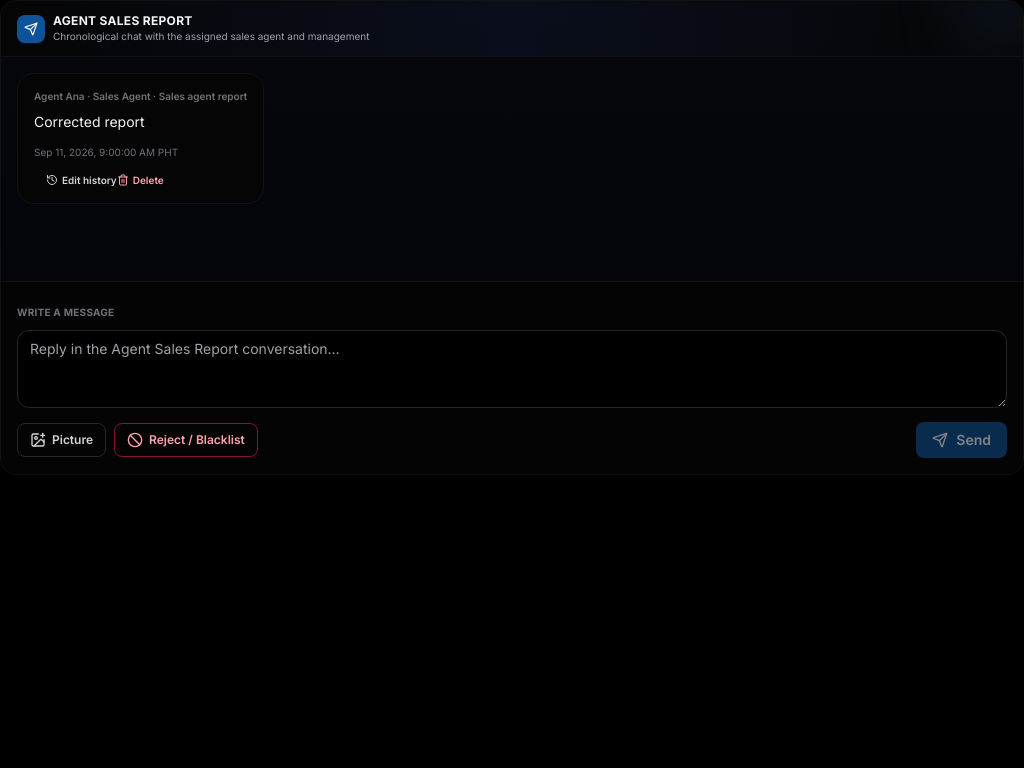
Test: CustomerSalesReportChat › loads edited message history only when a Master User opens it
This screenshot has width=1024, height=768.
Expected: the text "Corrected report" is shown, [34,113,145,130]
Click the button "Edit history" at (81, 180), box [46,170,117,190]
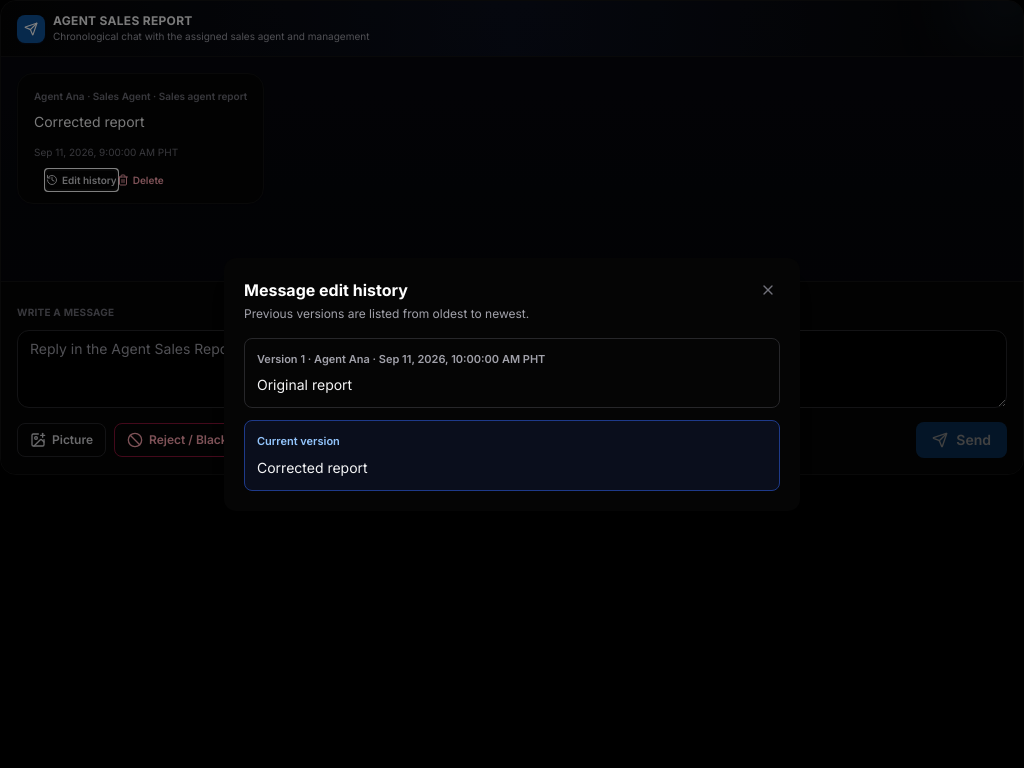
Result: the text "Original report" is shown at [257,376,352,393]
Result: the text "Current version" is shown at [257,434,340,448]
